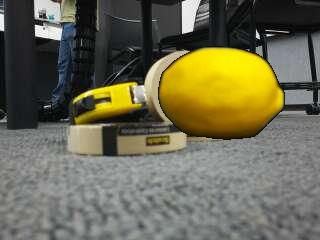lemon: (159, 48, 283, 138)
